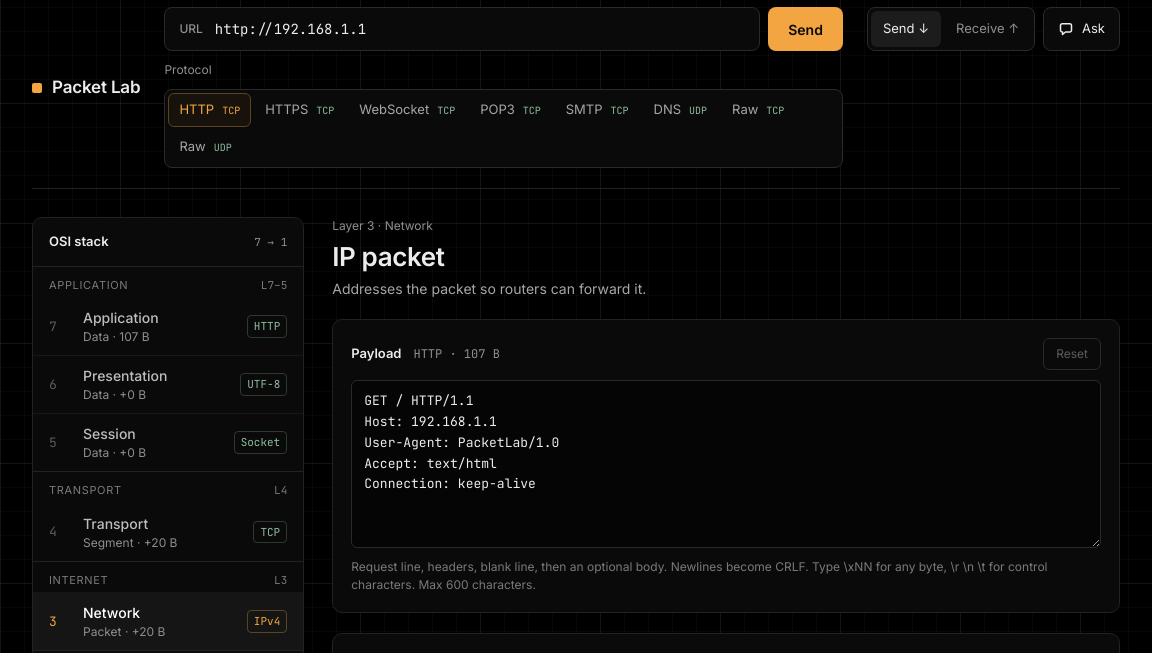
it: App › shows the DNS record-type group and changes the L7 Type field
The width and height of the screenshot is (1152, 653).
Check: the element "Record type" is not shown
Click the button "DNS UDP" at (680, 110), box 642,93 -> 718,127
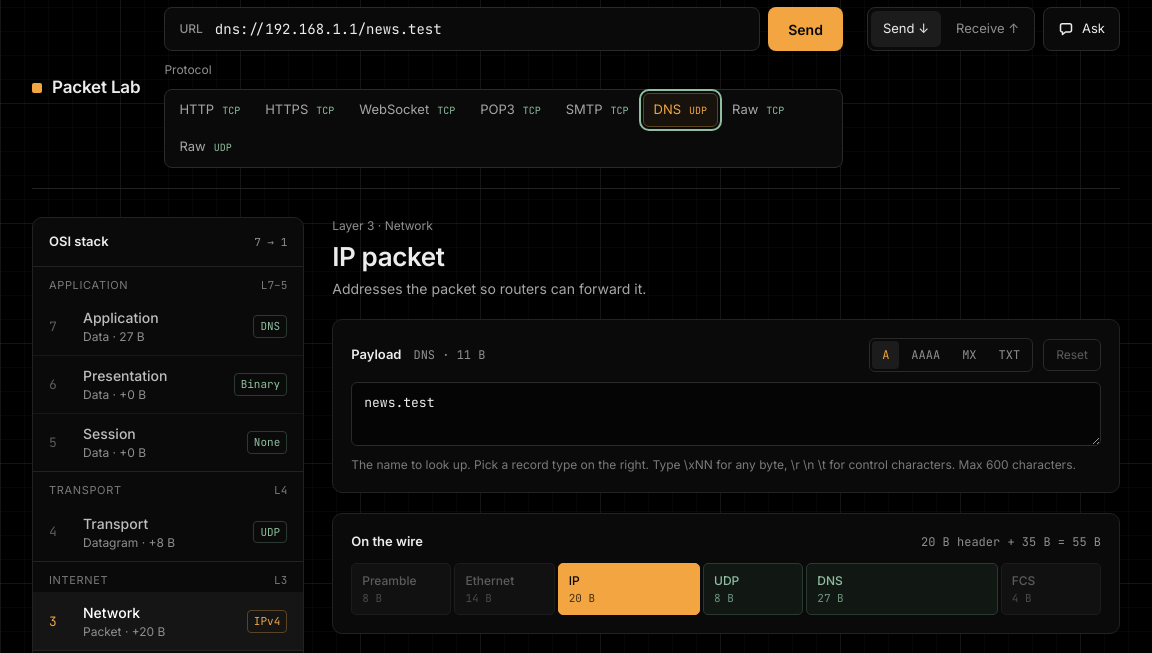
Check: the field labelled "URL" holds "dns://192.168.1.1/news.test", box 215,9 -> 745,49
Click the button "7 Application Data · 27 B DNS" at (121, 318), box 33,297 -> 303,355
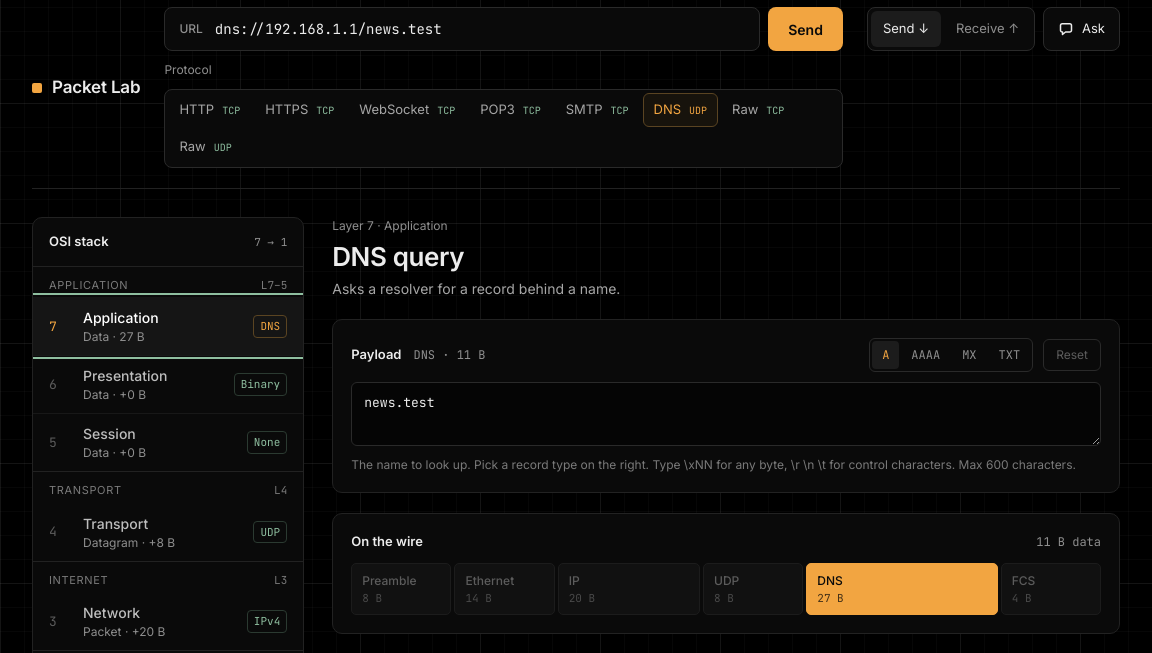
Click the button "AAAA" at (926, 355), box 901,341 -> 950,369
(page scrolled)
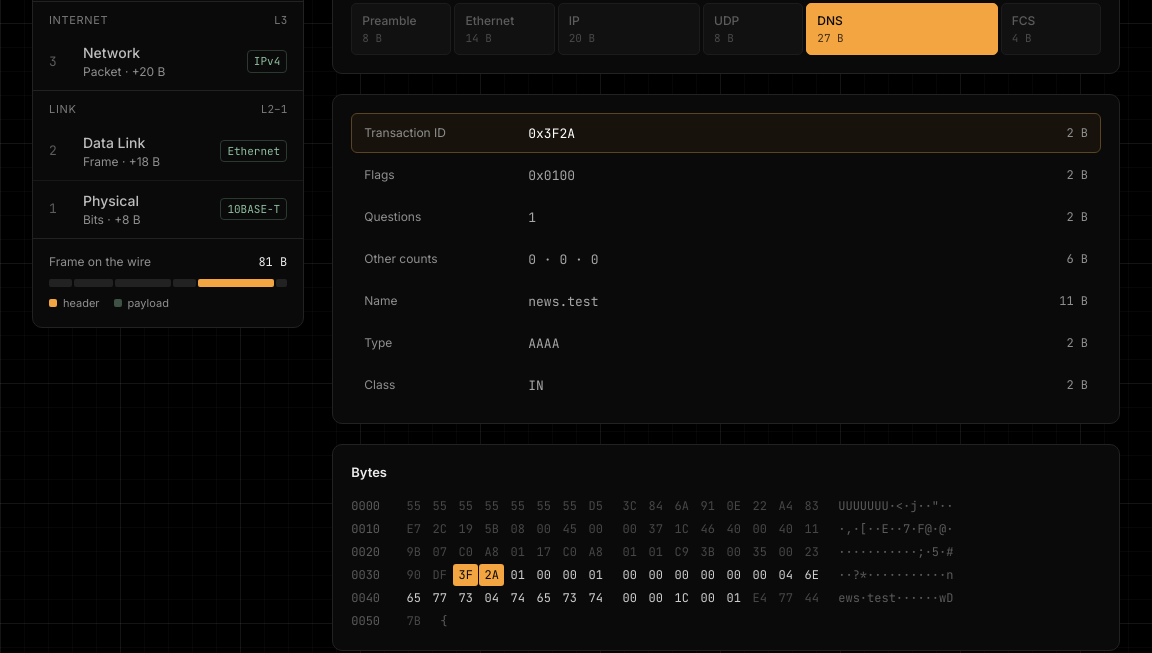
Check: the button "Type AAAA 2 B" is shown
Click the button "Type AAAA 2 B" at (544, 343), box 351,323 -> 1101,363
(page scrolled)
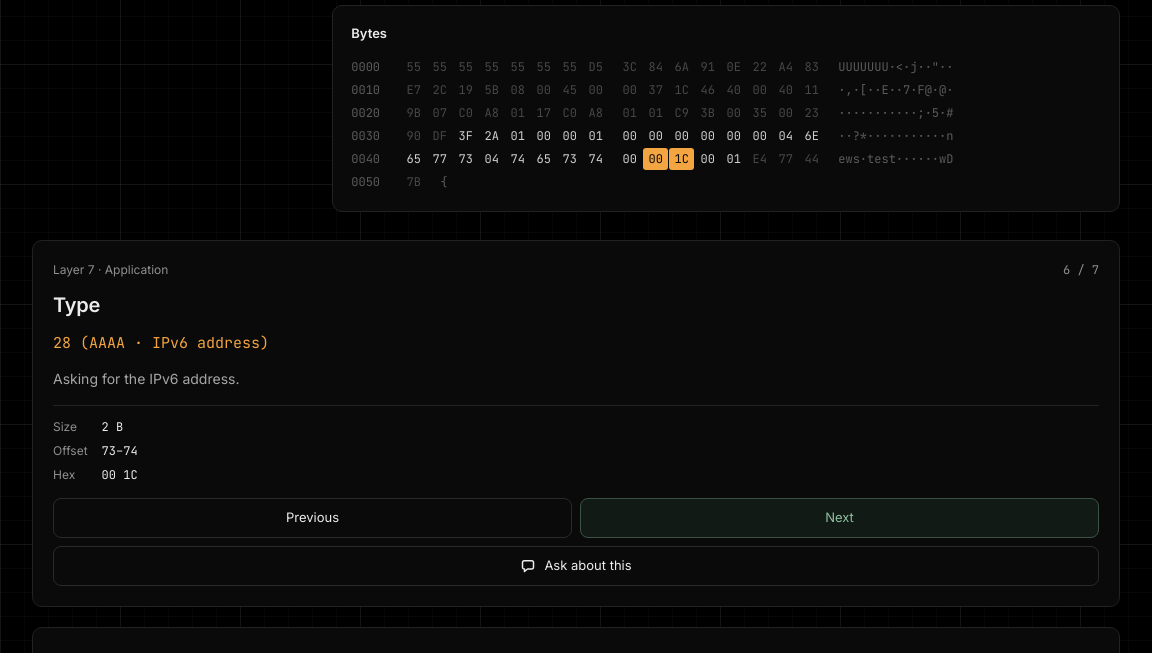
Check: the text "28 (AAAA · IPv6 address)" is shown, box 53,333 -> 269,353
